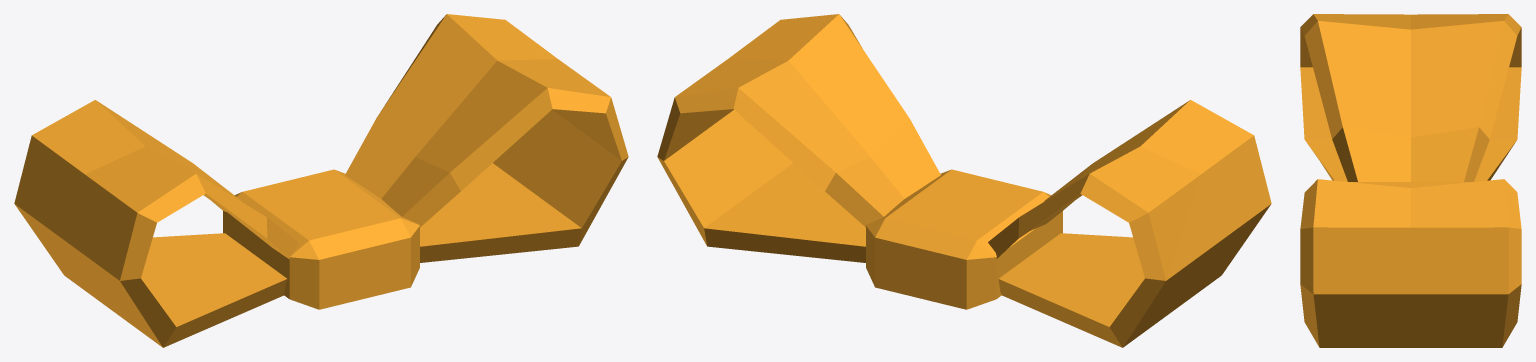
Rendered from SM_Cat_Bow.fbx.
3 renders of one model, left to right at view 1: azimuth 30°, elevation 25°; view 2: azimuth 150°, elevation 25°; view 3: azimuth 270°, elevation 25°, orthographic. The views are drawn at different scales.
Visible parts, largest first — view 1: SM_Cat_Bow; view 2: SM_Cat_Bow; view 3: SM_Cat_Bow.
Boxes of the visible parts, left/top/right/bottom form: SM_Cat_Bow: left=14, top=14, right=628, bottom=347; SM_Cat_Bow: left=657, top=14, right=1271, bottom=347; SM_Cat_Bow: left=1300, top=14, right=1521, bottom=347.
Bounding box in the file's own units: 0.045 × 0.0146 × 0.0184.
